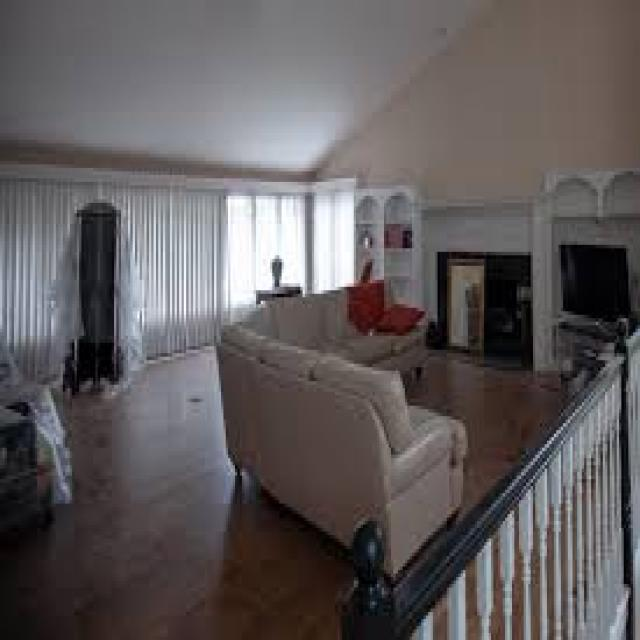Sofa: (220, 279, 463, 571)
